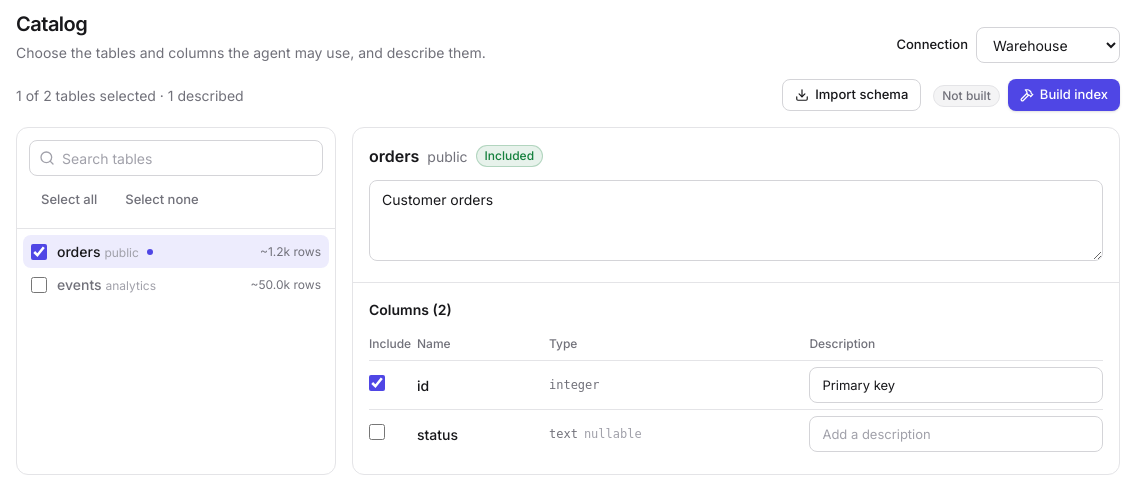
it: table list and stats › toggles inclusion optimistically and persists it
The width and height of the screenshot is (1137, 492).
Expected: the checkbox named "Include public.orders" is shown, [31,244,47,260]
Click the checkbox named "Include analytics.events" at (39,284), box [31,276,47,292]
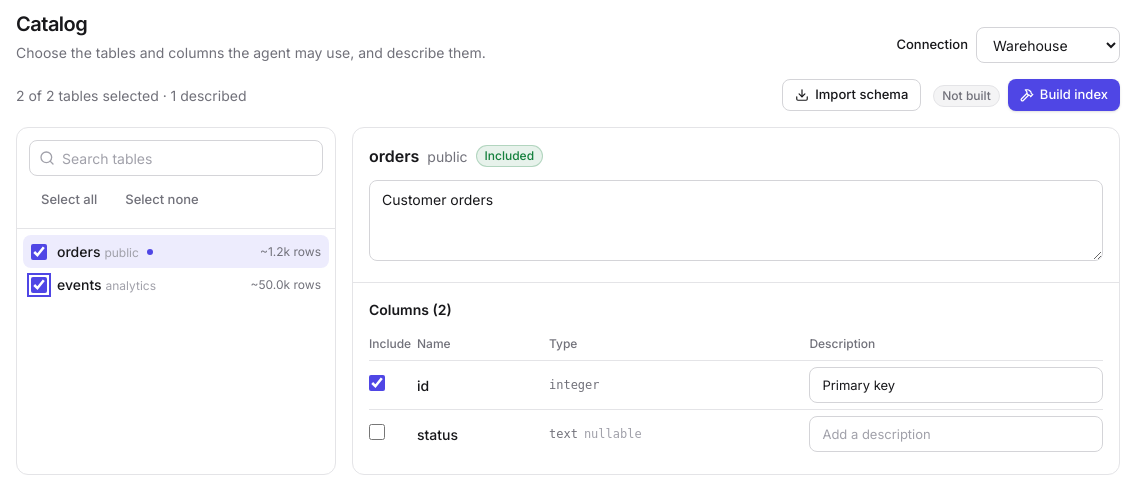
Now the checkbox named "Include analytics.events" is checked, box [31,276,47,292]
Now the text "2 of 2 tables selected · 1 described" is shown, box [16,84,246,106]
